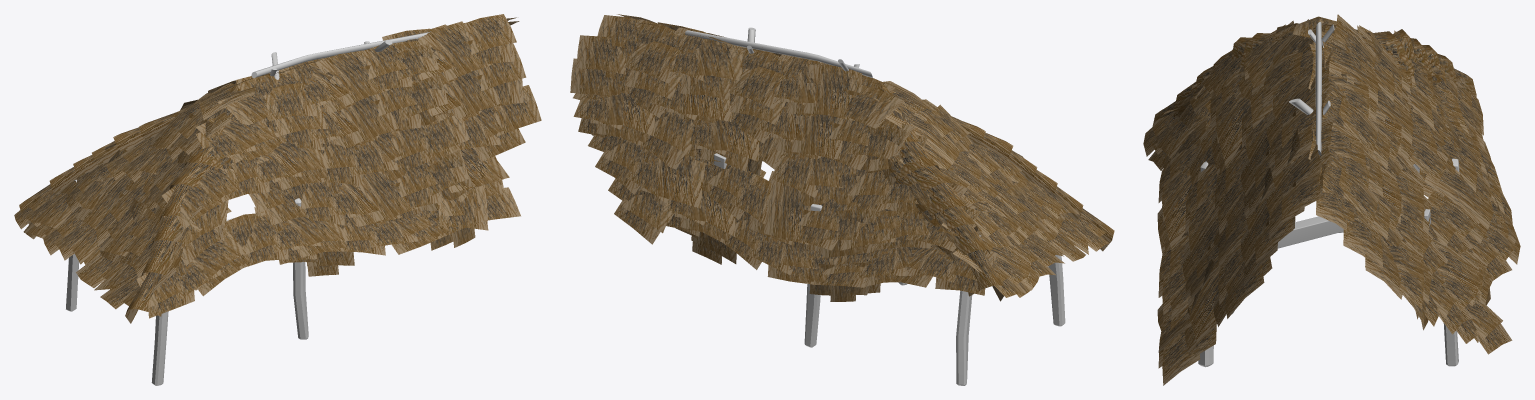
File: SM_roofStablesTavern_a1.fbx
3 views of the same model, side by side, from view 1: azimuth 30°, elevation 25°; view 2: azimuth 150°, elevation 25°; view 3: azimuth 270°, elevation 25° (orthographic). The views are drawn at different scales.
Parts seen in each view (by area): view 1: SM_roofStablesTavern_a1_LOD0; view 2: SM_roofStablesTavern_a1_LOD0; view 3: SM_roofStablesTavern_a1_LOD0.
Boxes of the visible parts, x1,y1,x2,y2 form: SM_roofStablesTavern_a1_LOD0: (14,14,541,385); SM_roofStablesTavern_a1_LOD0: (570,14,1114,385); SM_roofStablesTavern_a1_LOD0: (1143,14,1520,385).
Bounding box in the file's own units: 900 × 444 × 469.
3 materials, 1 textured.
